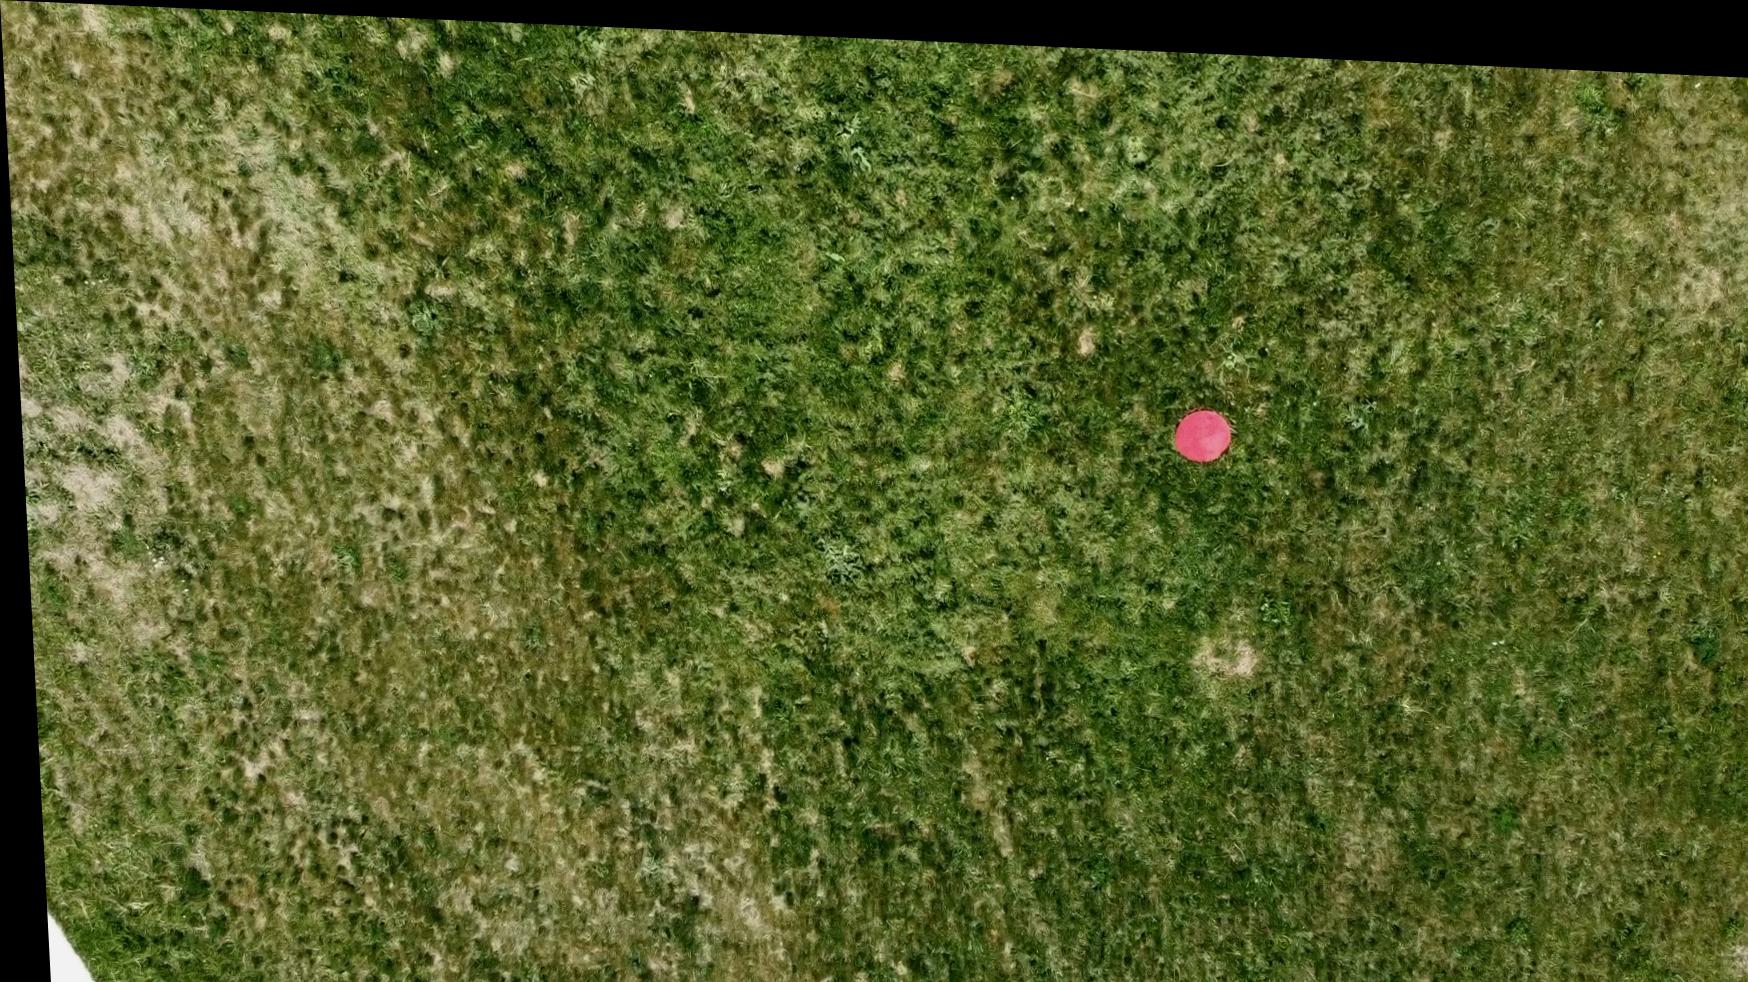Red: (1168, 396, 1232, 456)
